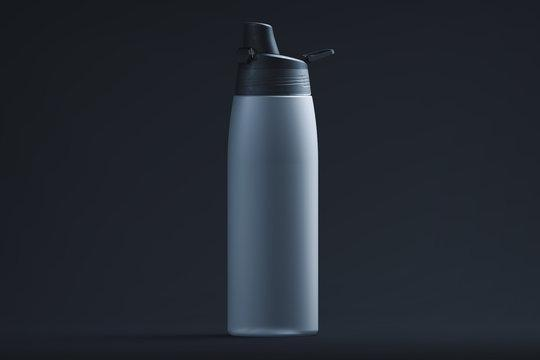gym bottle: (223, 20, 322, 340)
